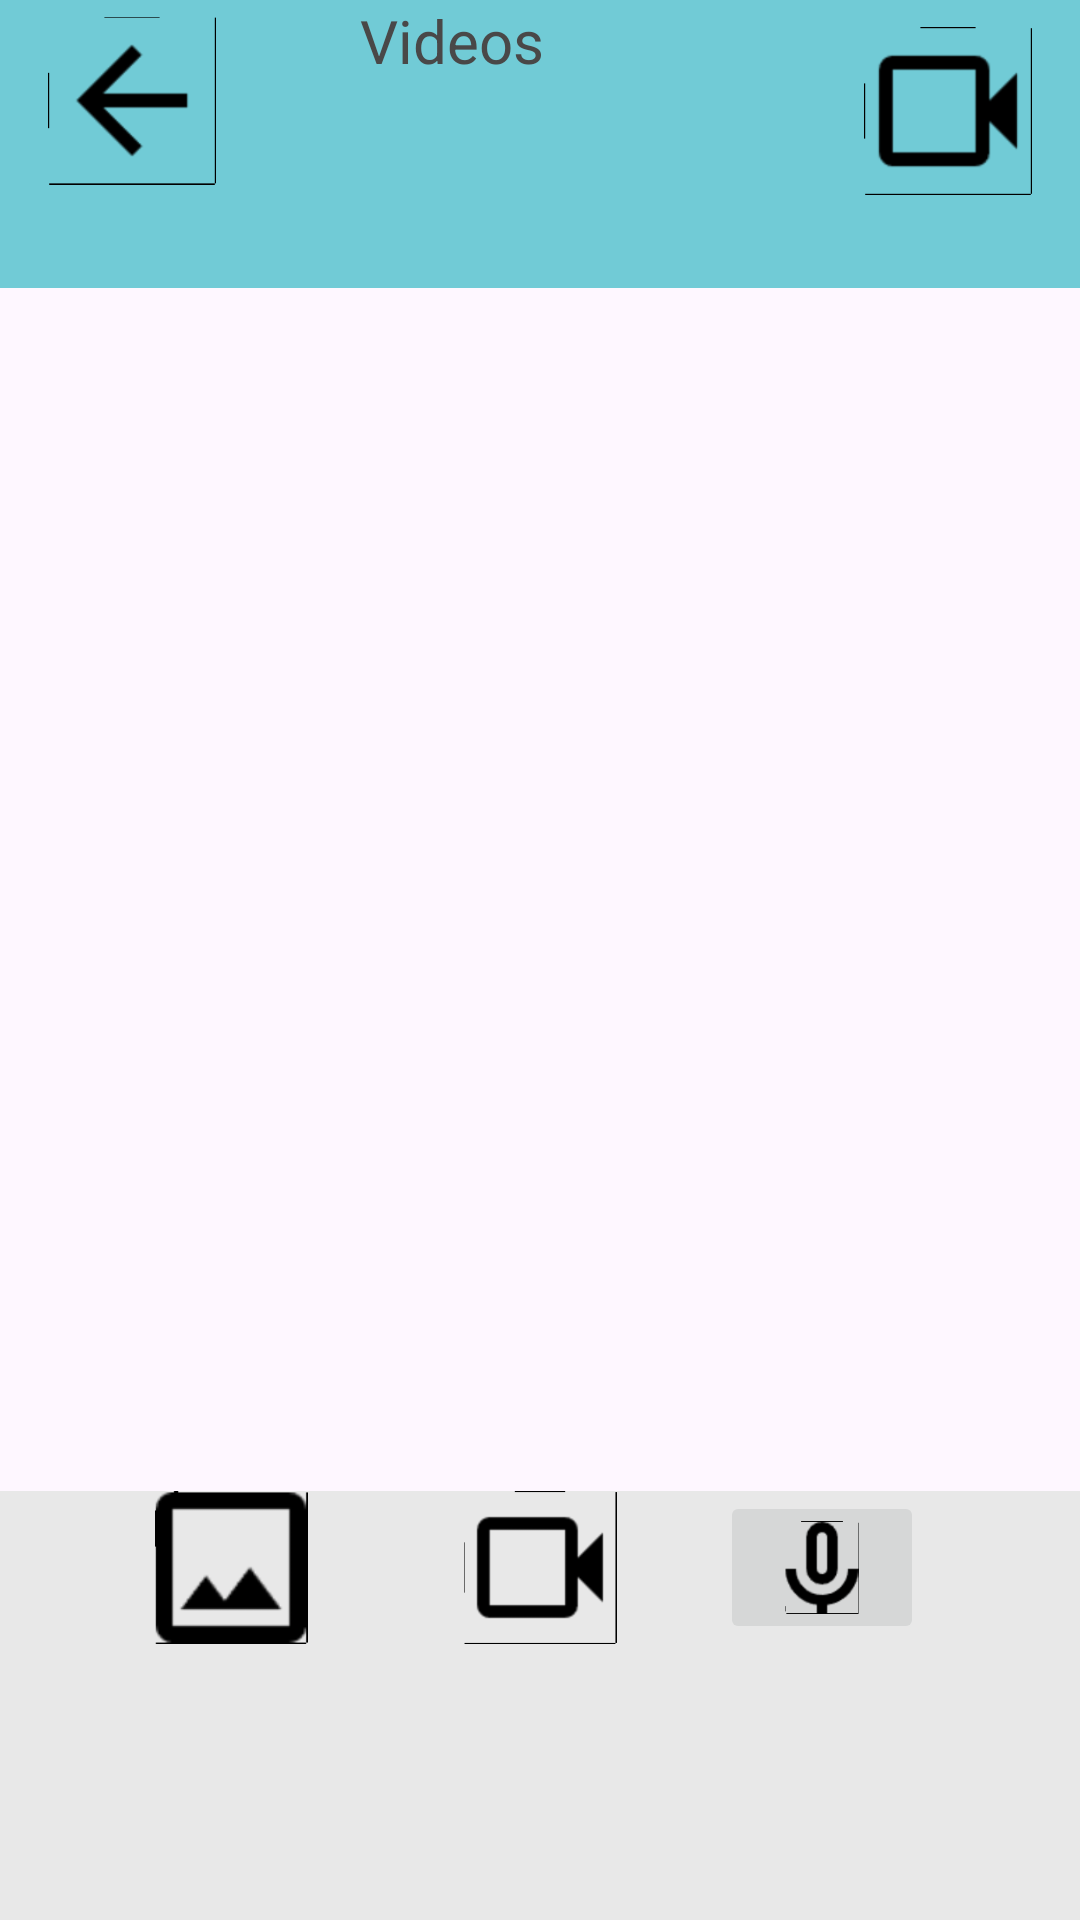

Icon bounding boxes for this 1080px×1920px phone screenshot, format (x1, y1, x2, y2):
arrow back: (48, 17, 216, 185)
imageselecter: (155, 1491, 308, 1644)
microphone: (732, 1509, 912, 1626)
videocam: (864, 27, 1032, 195), (464, 1491, 617, 1644)
